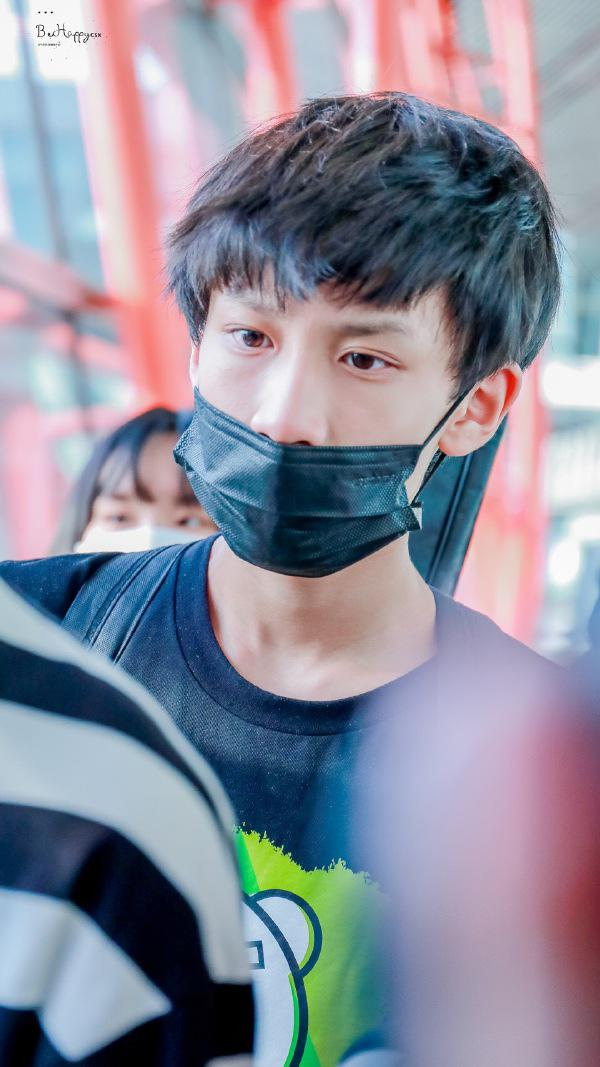OK: (82, 458, 216, 608)
WRONG: (194, 267, 448, 577)
